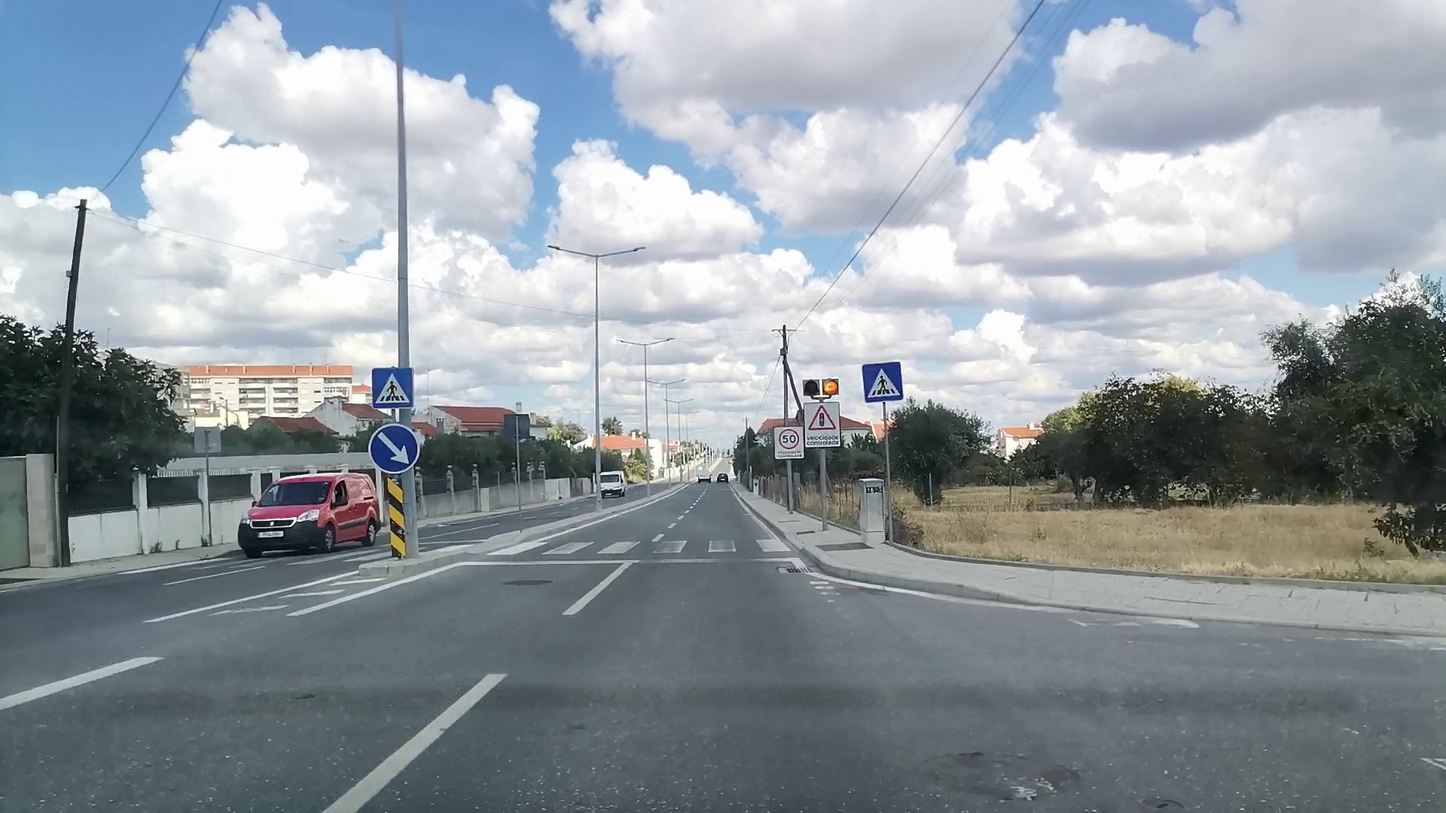Stairs: (492, 537, 792, 556)
